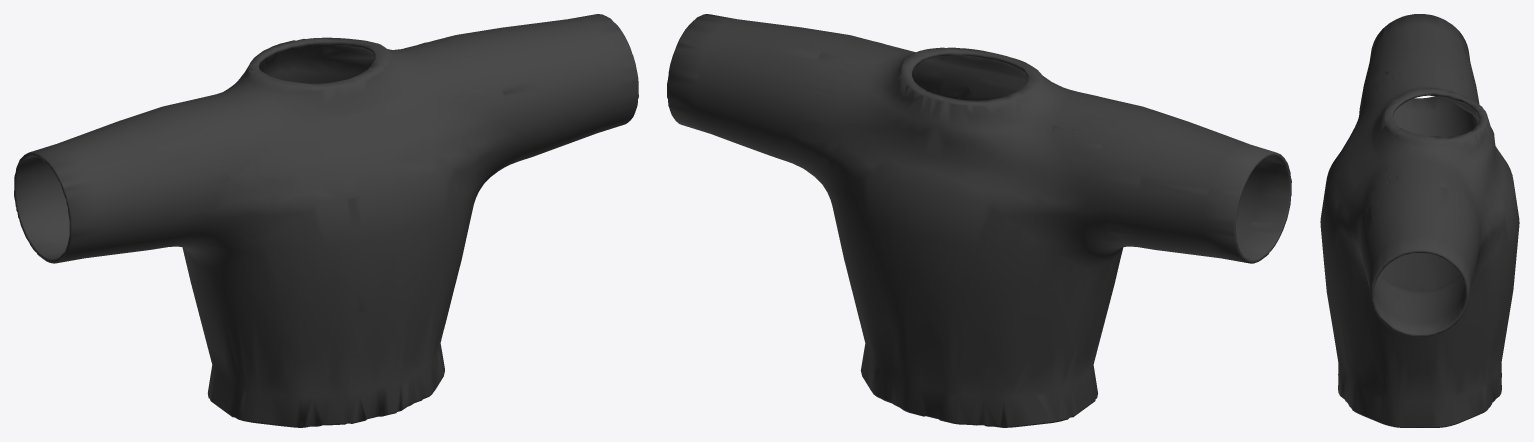
Rendered from gear-tunic.glb.
3 renders of one model, left to right at view 1: azimuth 30°, elevation 25°; view 2: azimuth 150°, elevation 25°; view 3: azimuth 270°, elevation 25°, orthographic. The views are drawn at different scales.
Parts seen in each view (by area): view 1: geometry_0; view 2: geometry_0; view 3: geometry_0.
Boxes of the visible parts, bbox=[...] form: geometry_0: bbox=[14, 14, 638, 427]; geometry_0: bbox=[667, 14, 1291, 427]; geometry_0: bbox=[1320, 14, 1519, 427].
Size of the model in its own units: 0.8944 by 0.4771 by 0.3181.
Materials: 1 (1 with a texture image).
